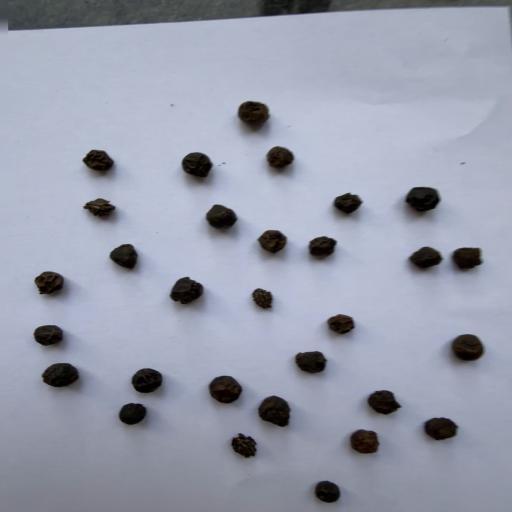Black_pepper: (298, 476, 356, 509), (393, 178, 442, 217), (320, 184, 370, 222), (447, 328, 496, 366), (249, 394, 299, 431), (191, 197, 243, 232), (420, 410, 468, 446), (361, 382, 407, 419), (348, 426, 398, 460), (232, 98, 280, 133), (26, 268, 79, 299), (286, 342, 335, 375), (104, 239, 152, 272), (318, 306, 365, 338), (35, 361, 83, 392), (175, 150, 218, 184), (205, 373, 248, 406), (305, 232, 349, 264), (128, 367, 171, 399), (166, 268, 202, 306), (402, 242, 445, 273), (256, 226, 293, 258), (446, 242, 484, 271), (265, 145, 305, 172), (80, 148, 118, 175), (118, 400, 153, 429), (31, 322, 68, 348)
papaya_seed: (83, 196, 121, 226), (249, 286, 282, 317), (226, 432, 257, 458)
